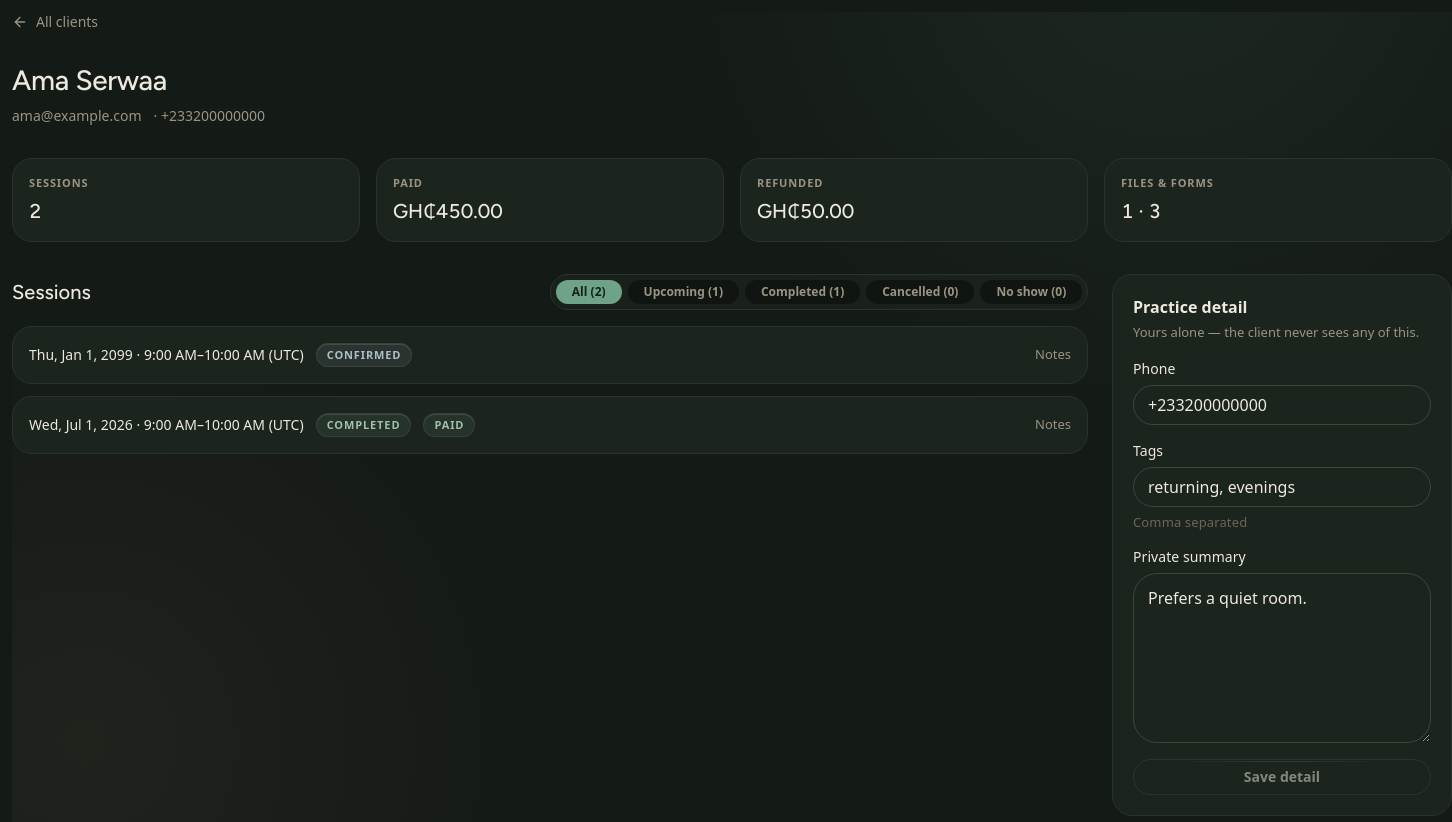
Test: ClientRecordPage › shows the saved values afterwards, without a second fetch
This screenshot has width=1452, height=822.
Check: the heading "Ama Serwaa" is shown, box [12,64,167,98]
Replace the text in the text box labelled "Private summary" with "Now prefers afternoons." at [1282, 658], box [1133,573,1431,743]
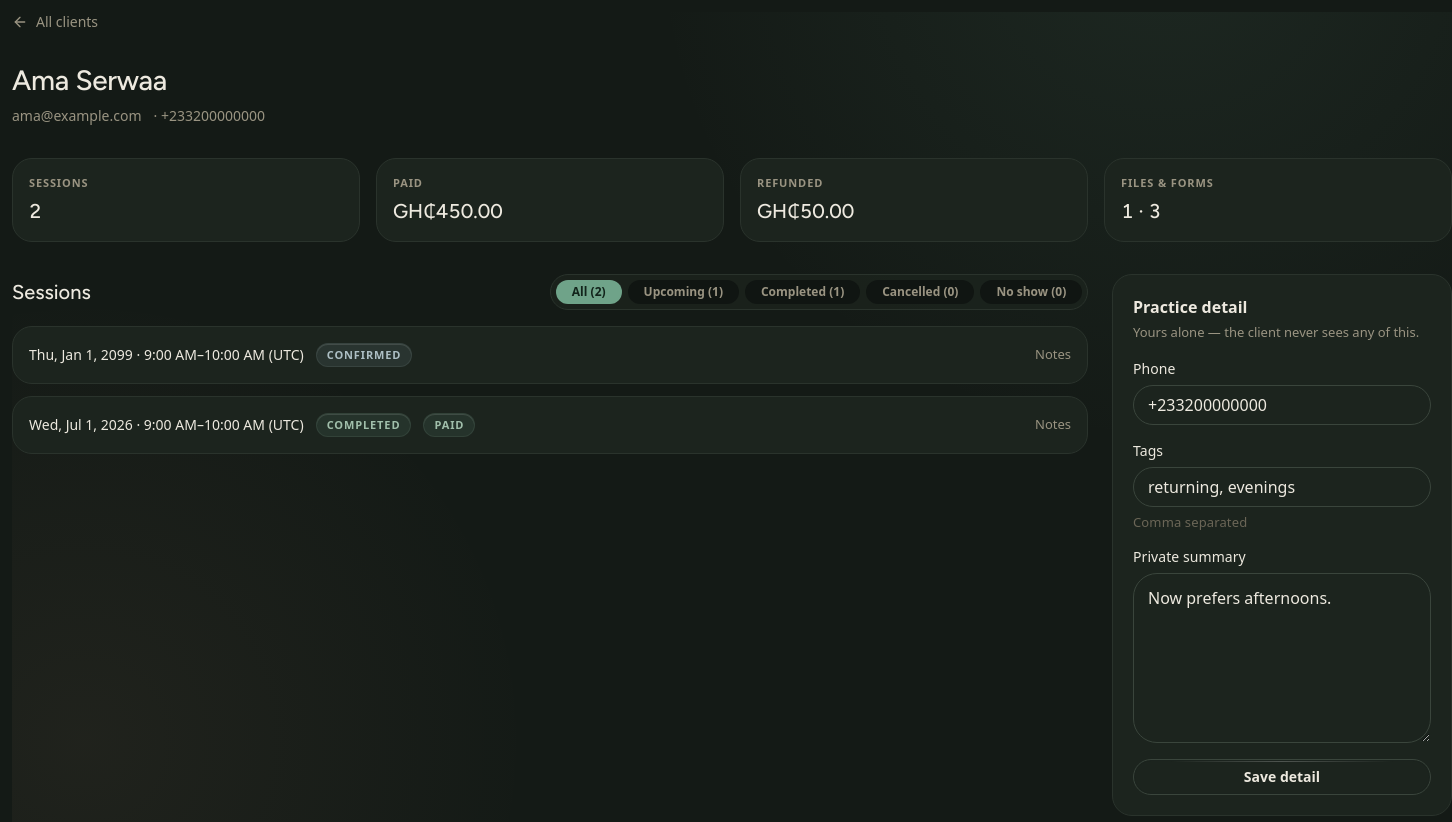
Click the button "Save detail".
click(1282, 777)  # box [1133,759,1431,795]
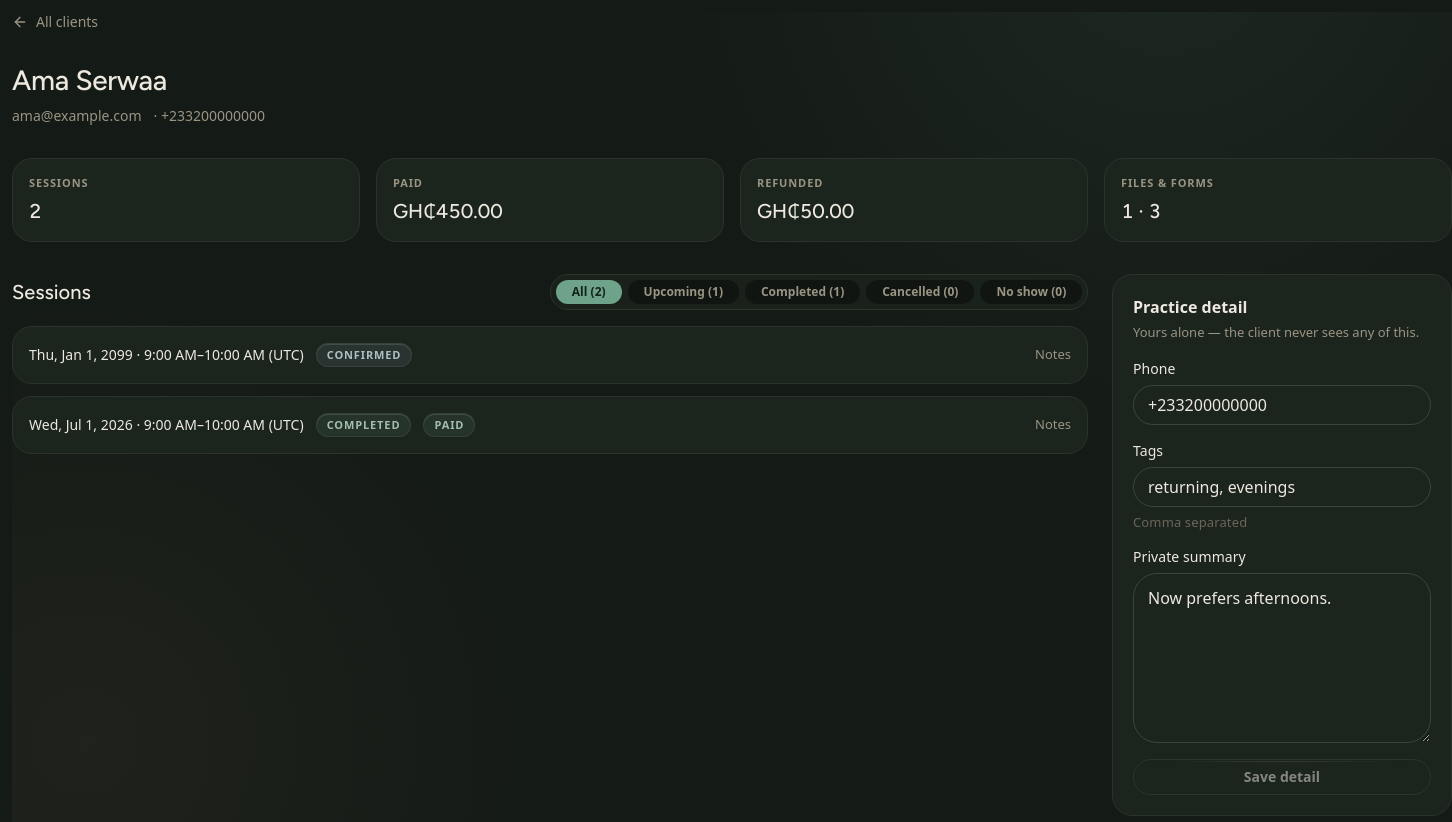
Check: the button "Save detail" is disabled, box [1133,759,1431,795]
